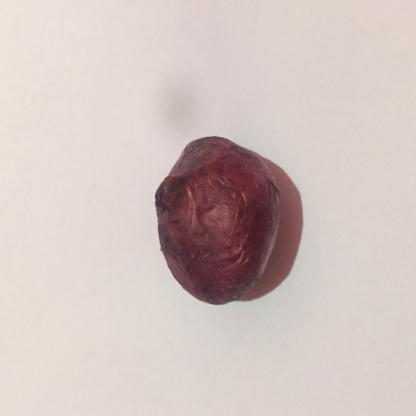onion: (150, 95, 300, 338)
